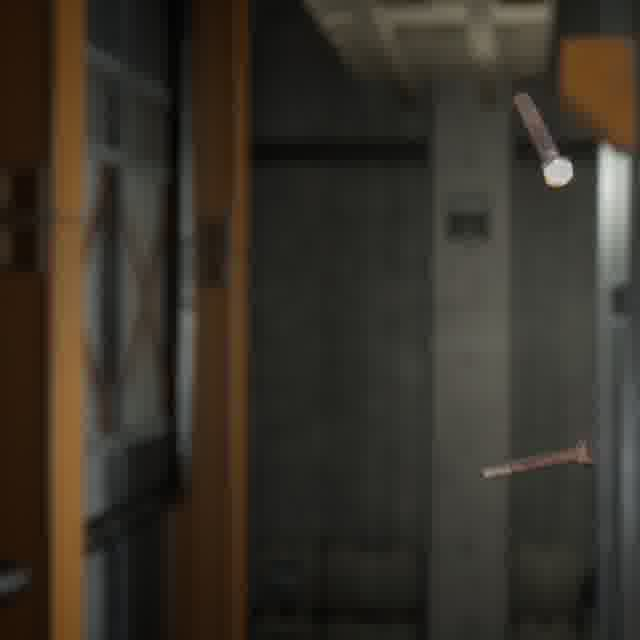bolt: (510, 88, 577, 192), (478, 433, 604, 484)
